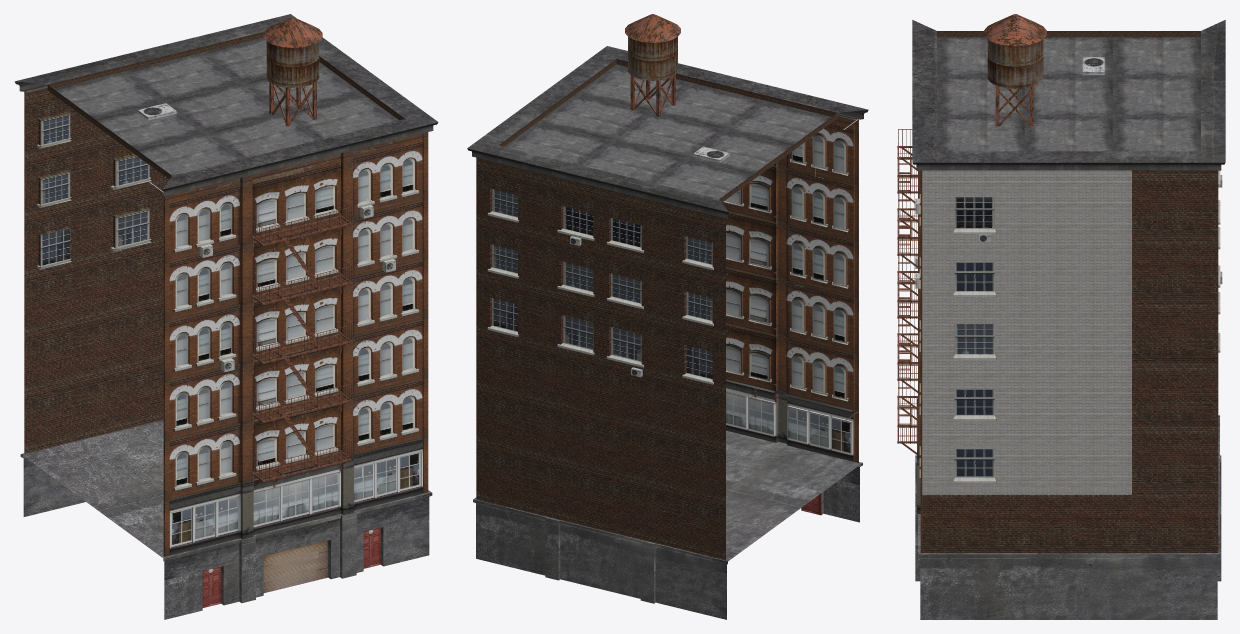
File: alleyBldg3.fbx
The picture shows the model from 3 angles, left to right: view 1: azimuth 30°, elevation 25°; view 2: azimuth 150°, elevation 25°; view 3: azimuth 270°, elevation 25°; orthographic projection. The views are drawn at different scales.
Visible parts, largest first — view 1: pasted__K_Building_A01_00; view 2: pasted__K_Building_A01_00; view 3: pasted__K_Building_A01_00.
Boxes of the visible parts, x1=… form: pasted__K_Building_A01_00: x1=14, y1=14, x2=438, y2=619; pasted__K_Building_A01_00: x1=467, y1=14, x2=868, y2=619; pasted__K_Building_A01_00: x1=897, y1=14, x2=1225, y2=619.
Bounding box in the file's own units: 1611 × 2934 × 1564.
